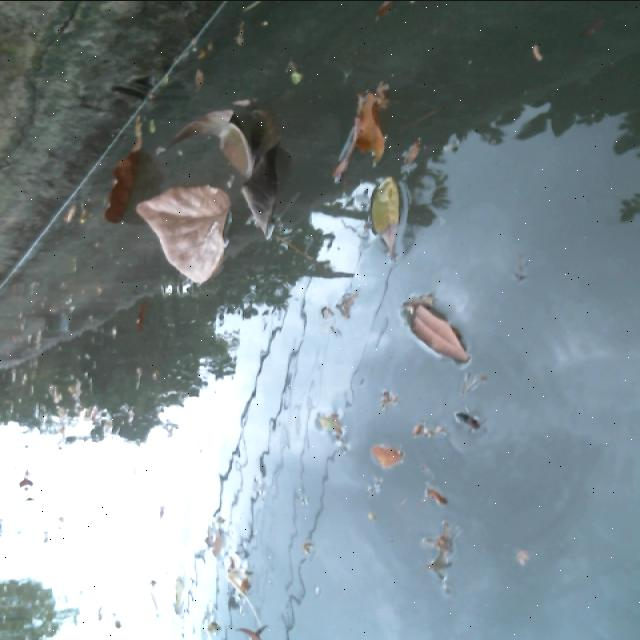Big-leaf: (175, 96, 290, 242), (135, 182, 236, 295), (80, 108, 149, 233), (326, 71, 400, 176)
Small-leaf: (391, 297, 472, 368), (359, 162, 413, 262), (363, 432, 417, 471), (186, 55, 211, 90)
